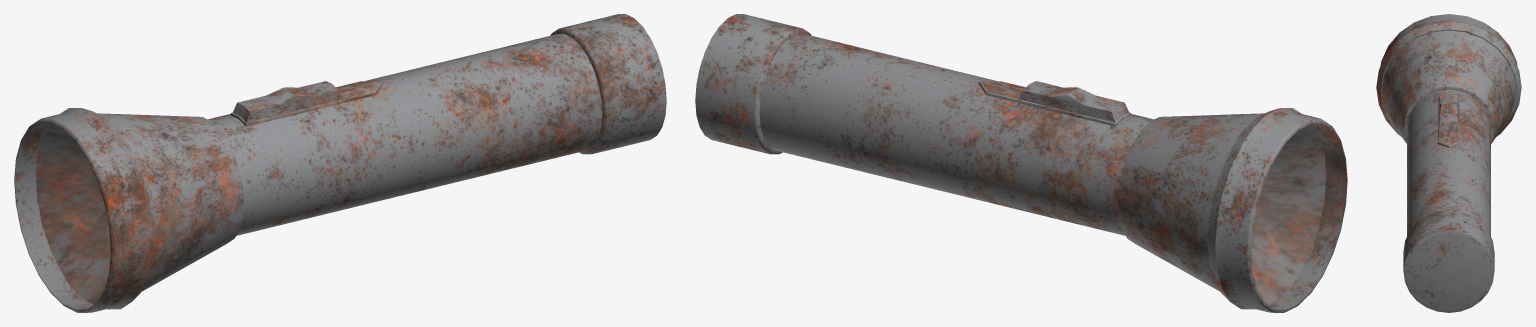
Rendered from TorchTX.fbx.
3 views of the same model, side by side, from view 1: azimuth 30°, elevation 25°; view 2: azimuth 150°, elevation 25°; view 3: azimuth 270°, elevation 25° (orthographic). The views are drawn at different scales.
Parts seen in each view (by area): view 1: Cylinder, Cylinder.001; view 2: Cylinder, Cylinder.001; view 3: Cylinder.
Part boxes in pixels (<box>): Cylinder: <box>14,14,666,312</box>; Cylinder.001: <box>15,123,110,308</box>; Cylinder: <box>695,14,1347,312</box>; Cylinder.001: <box>1251,123,1346,308</box>; Cylinder: <box>1376,14,1521,312</box>.
Bounding box in the file's own units: 3571 × 1122 × 1122.
Materials: 2 (2 with a texture image).
